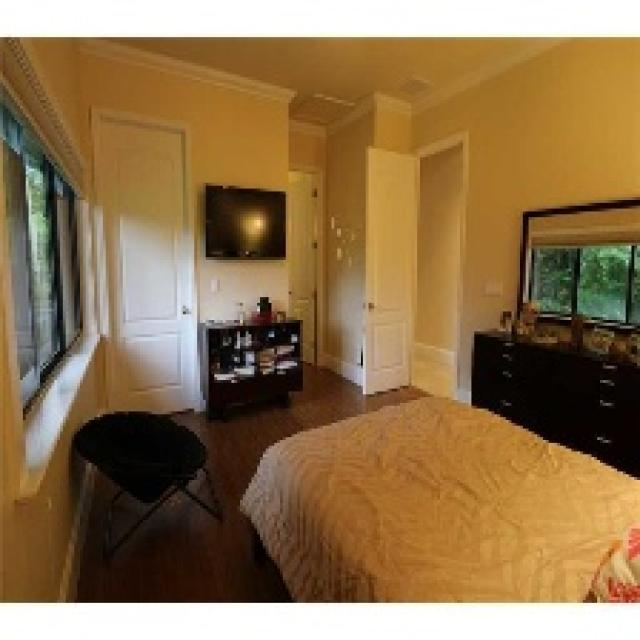Bed: (237, 391, 637, 600)
